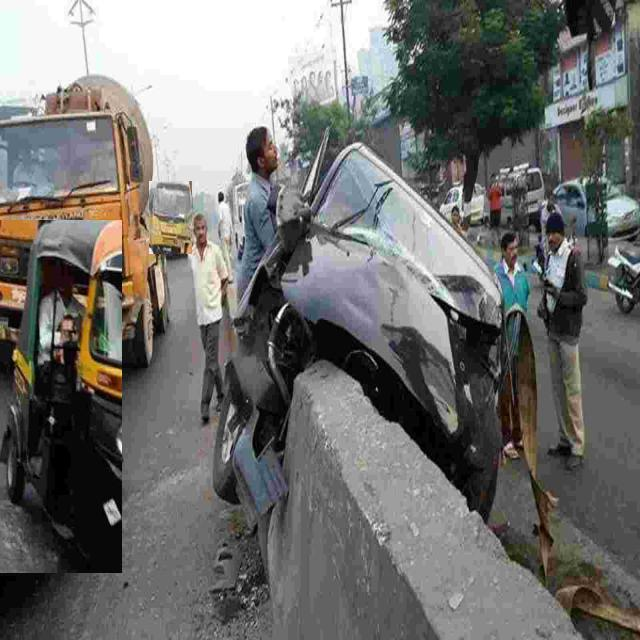accident: (214, 135, 505, 519)
autorickshaw: (0, 221, 122, 573)
bus: (149, 181, 192, 254)
car: (555, 179, 640, 235)
truck: (0, 75, 170, 367)
